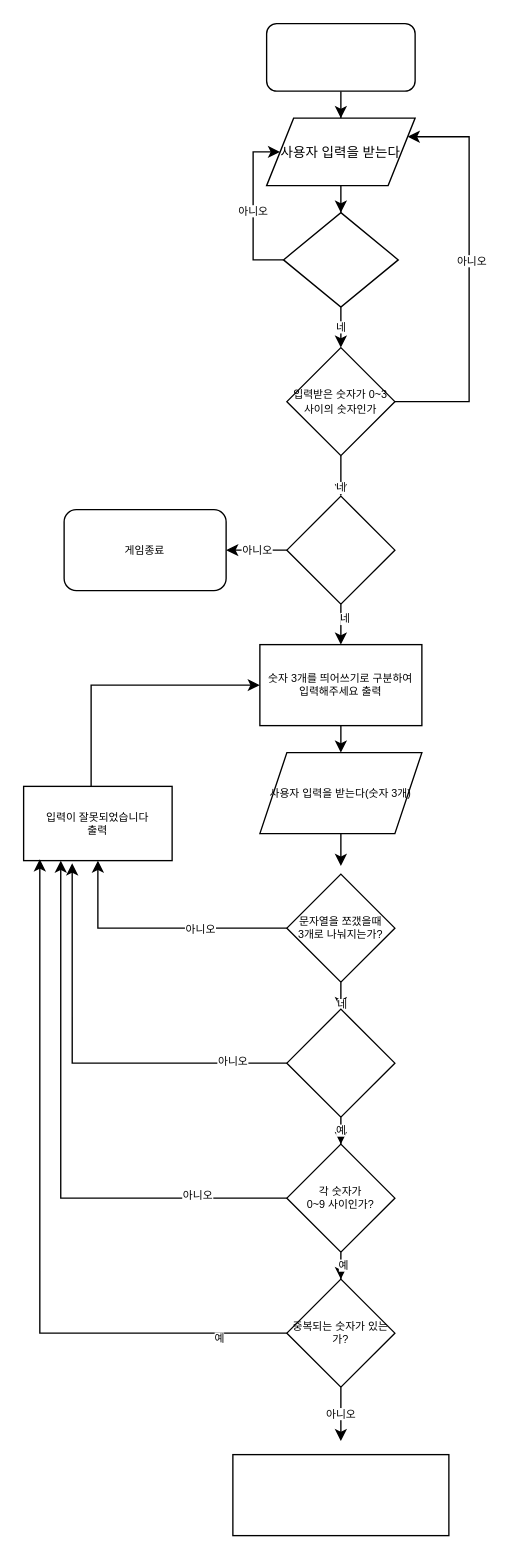
The diagram is 509 pixels wide and 1559 high, and some of its shapes have lost their labels. The shapes that lost their labels are listed below. From the top down, each one's centre as x and y in pixels, then its label:
At [340,56]: "게임시작, 게임종료, 원하는기능을 입력 문구 출력".
At [340,259]: "입력받은 값이 숫자인가?".
At [340,549]: "입력받은 숫자가 1인가?".
At [340,1062]: "쪼갠 문자열이 모두 숫자인가".
At [340,1494]: "playInning 함수 출력 playInning의 playerNumber에 전달 혹은 playerNumber를 전역변수로 만들고 전달".
